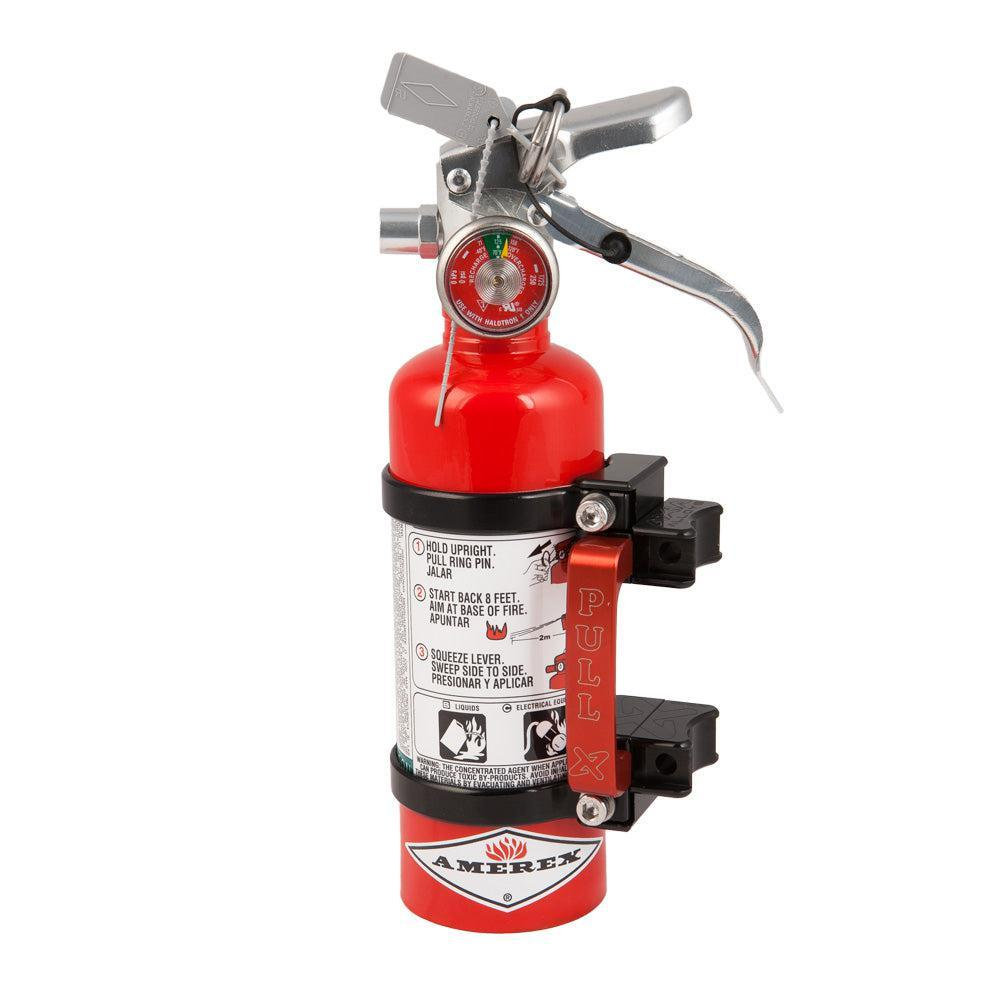Fire Extinguisher: (332, 20, 802, 958)
